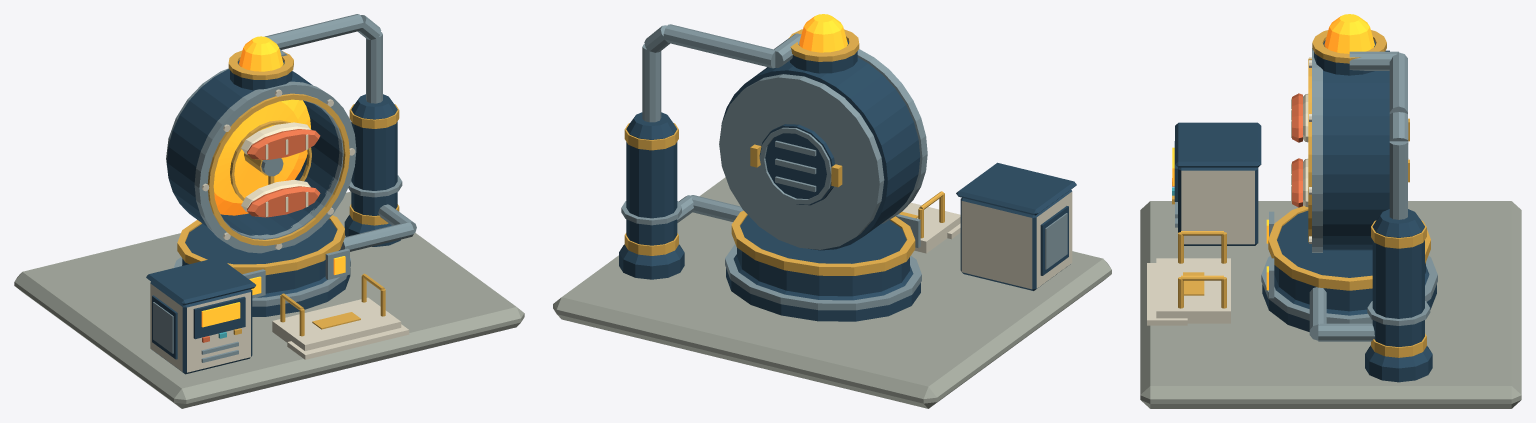
The model's file is fusion-lv1.glb.
3 views of the same model, side by side, from view 1: azimuth 30°, elevation 25°; view 2: azimuth 150°, elevation 25°; view 3: azimuth 270°, elevation 25° (orthographic). The views are drawn at different scales.
Visible parts, largest first — view 1: Fusion_L1, Twin_Nigiri_Rotor; view 2: Fusion_L1; view 3: Fusion_L1, Twin_Nigiri_Rotor.
Boxes of the visible parts, <box> form: Fusion_L1: <box>14,14,524,408</box>; Twin_Nigiri_Rotor: <box>230,120,320,217</box>; Fusion_L1: <box>553,14,1111,408</box>; Fusion_L1: <box>1140,14,1521,408</box>; Twin_Nigiri_Rotor: <box>1291,93,1308,207</box>.
Size of the model in its own units: 5.4 by 3.88 by 4.5.
